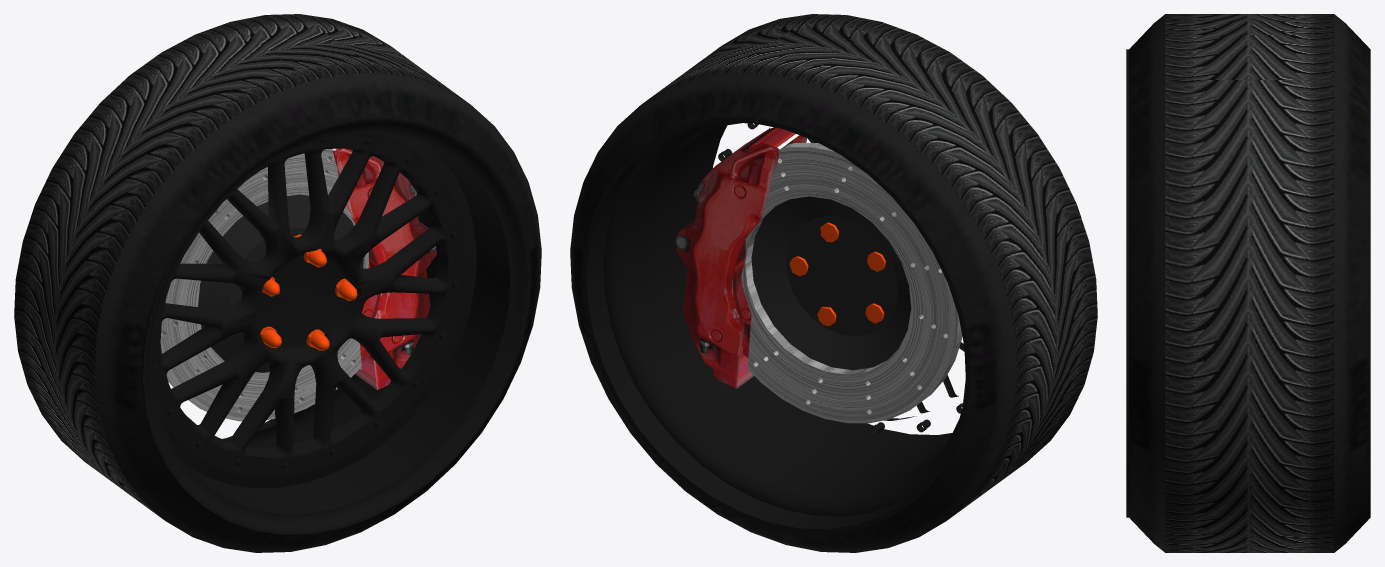
The model's file is Wheel.fbx.
The picture shows the model from 3 angles, left to right: view 1: azimuth 30°, elevation 25°; view 2: azimuth 150°, elevation 25°; view 3: azimuth 270°, elevation 25°; orthographic projection. The views are drawn at different scales.
Parts seen in each view (by area): view 1: Wheel; view 2: Wheel; view 3: Wheel.
Part boxes in pixels (bbox=[...]): Wheel: bbox=[14, 14, 541, 552]; Wheel: bbox=[570, 14, 1097, 552]; Wheel: bbox=[1126, 14, 1370, 552].
Size of the model in its own units: 213 by 213 by 96.33.
